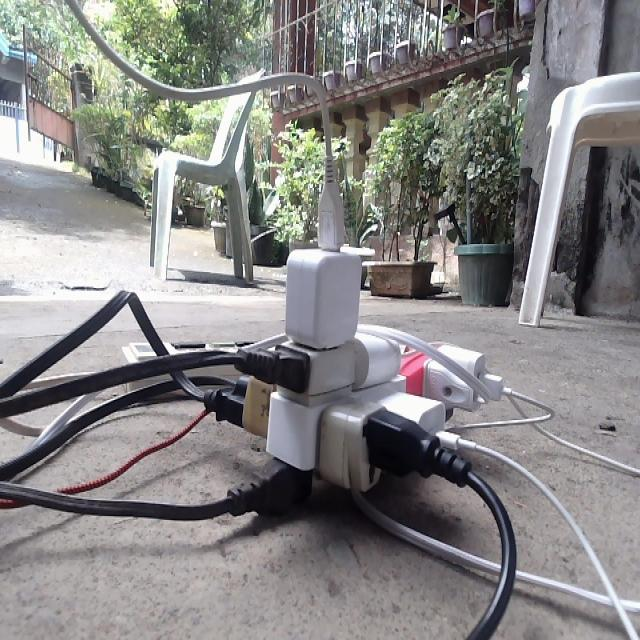-: (221, 199, 484, 513)
